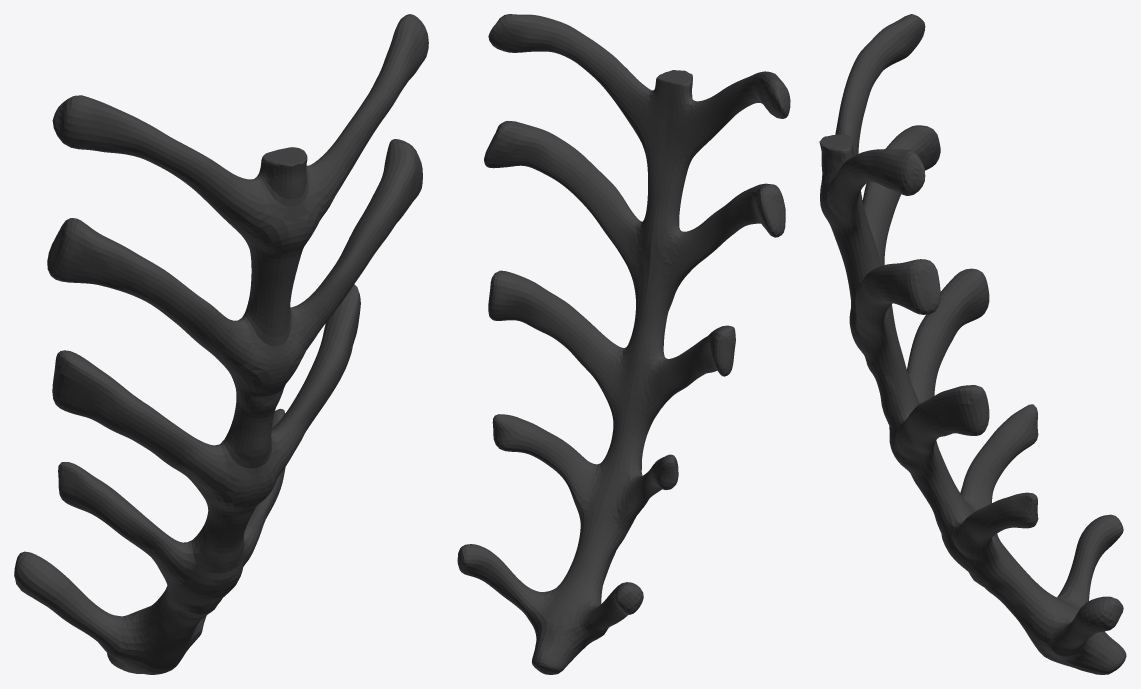
The model's file is B_Costal_cartilages.glb.
The picture shows the model from 3 angles, left to right: view 1: azimuth 30°, elevation 25°; view 2: azimuth 150°, elevation 25°; view 3: azimuth 270°, elevation 25°; orthographic projection. The views are drawn at different scales.
Visible parts, largest first — view 1: B_Costal_cartilages; view 2: B_Costal_cartilages; view 3: B_Costal_cartilages.
Boxes of the visible parts, bbox=[...] form: B_Costal_cartilages: bbox=[14, 14, 428, 674]; B_Costal_cartilages: bbox=[457, 14, 790, 674]; B_Costal_cartilages: bbox=[819, 14, 1126, 674].
Size of the model in its own units: 0.00492 by 0.0089 by 0.0042.
Materials: 1 (1 with a texture image).
